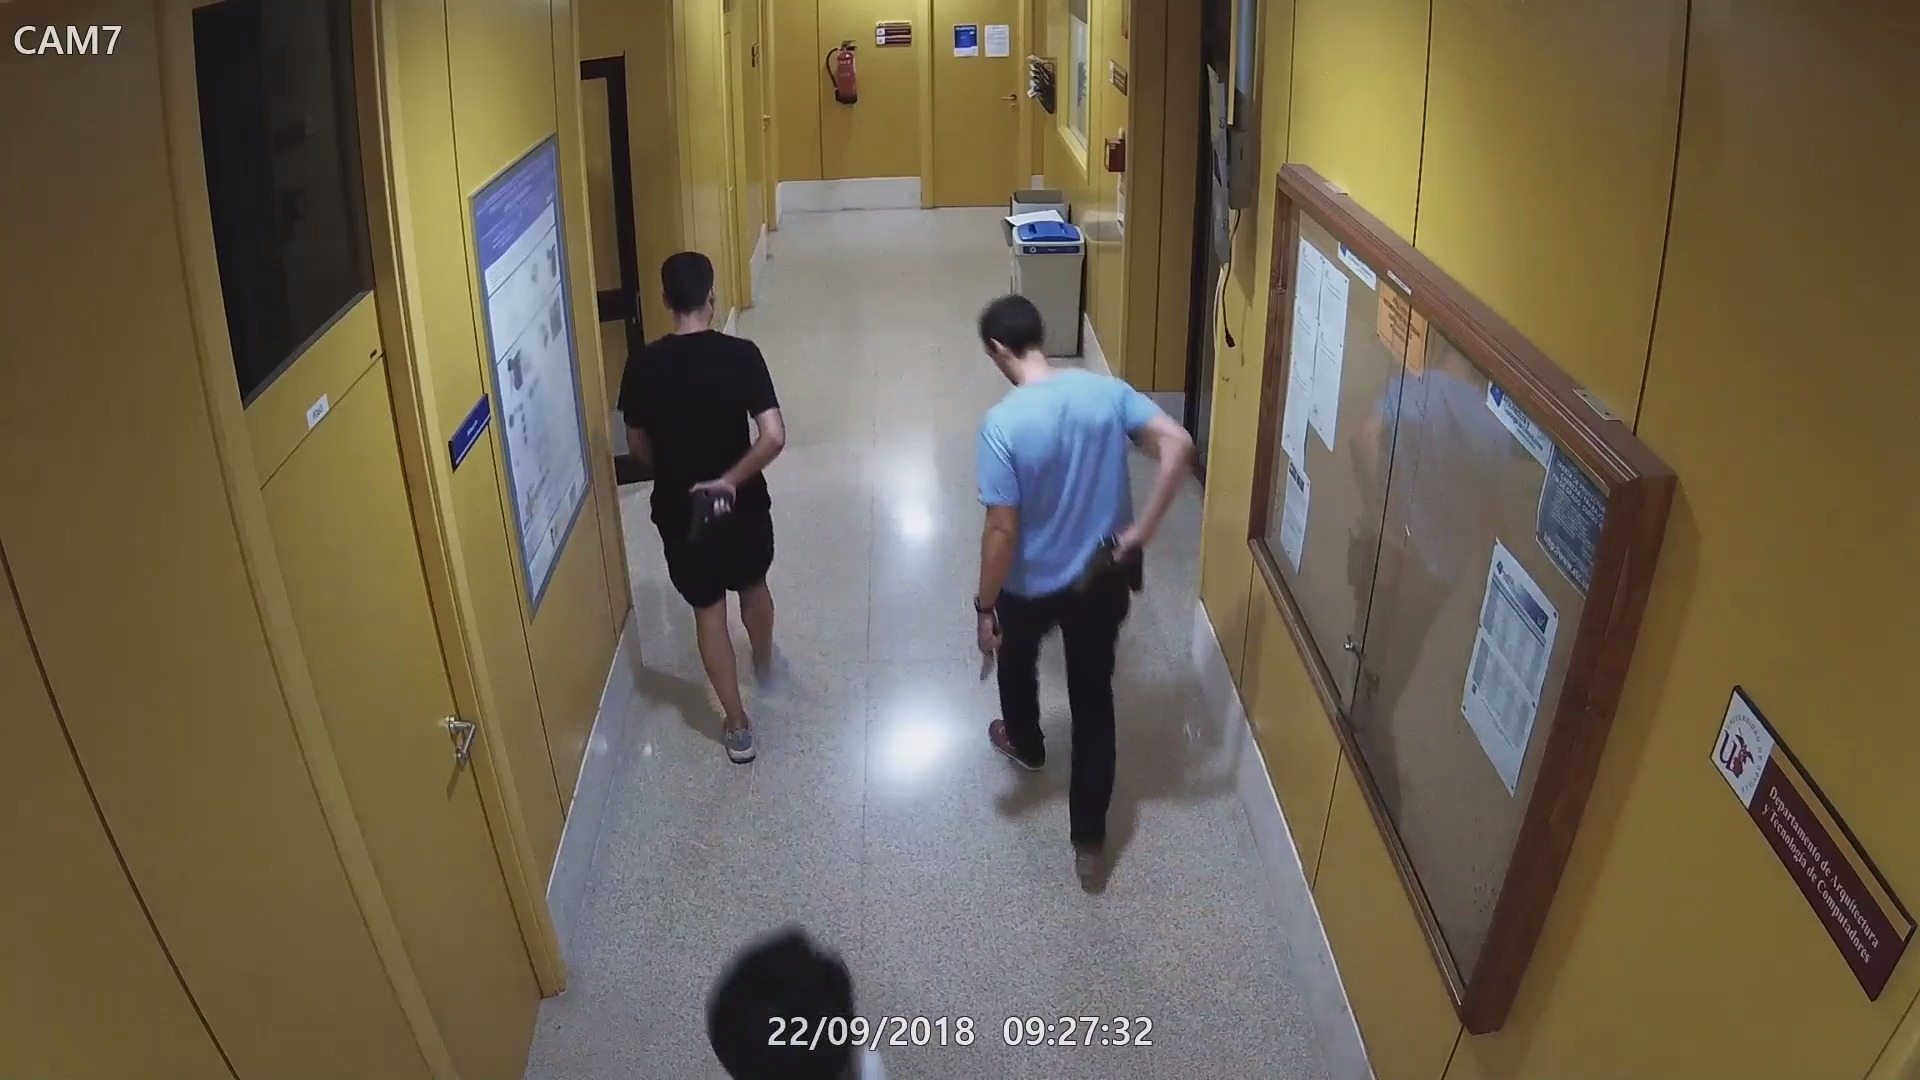Handgun: (1072, 531, 1137, 605), (686, 483, 737, 549)
Knife: (975, 607, 1004, 683)
